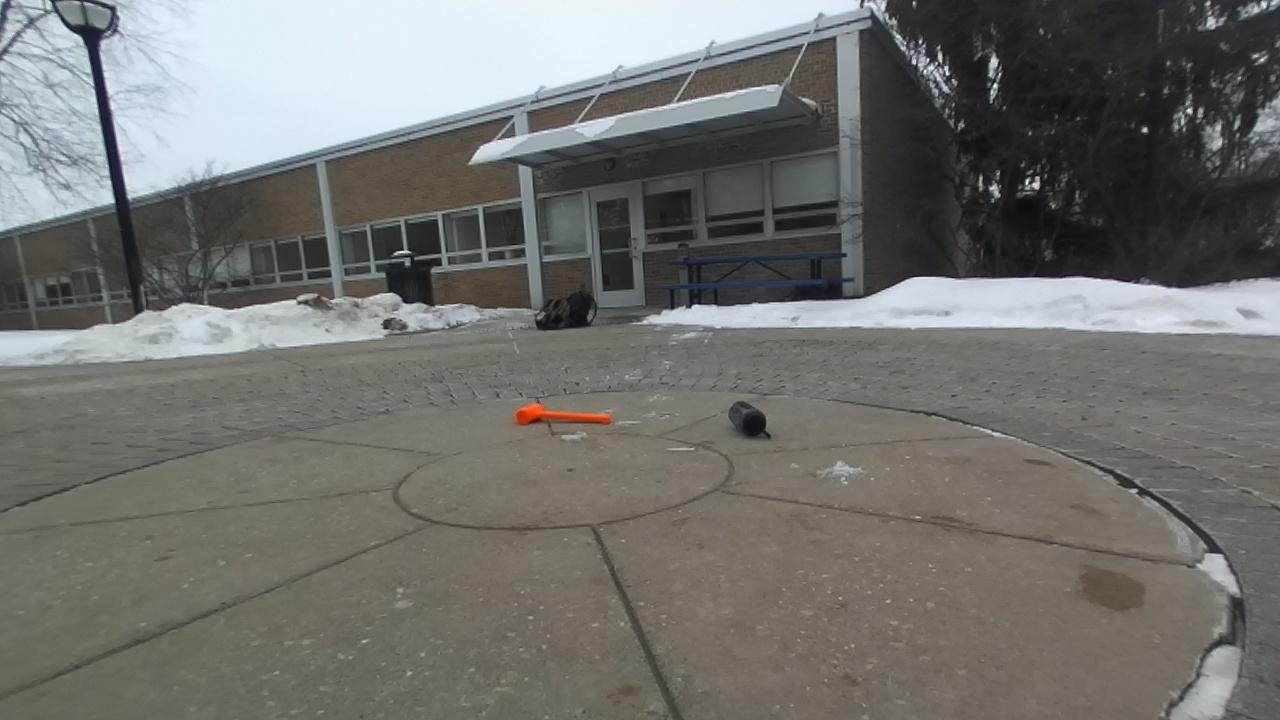bottle: (729, 401, 770, 437)
mallet: (515, 403, 611, 424)
